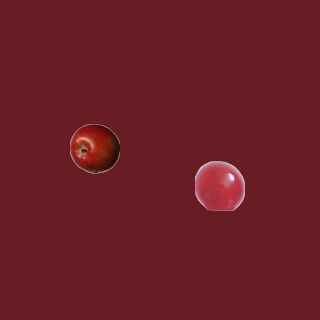Apple Braeburn: (69, 123, 119, 173)
Redcurrant: (194, 160, 244, 210)
